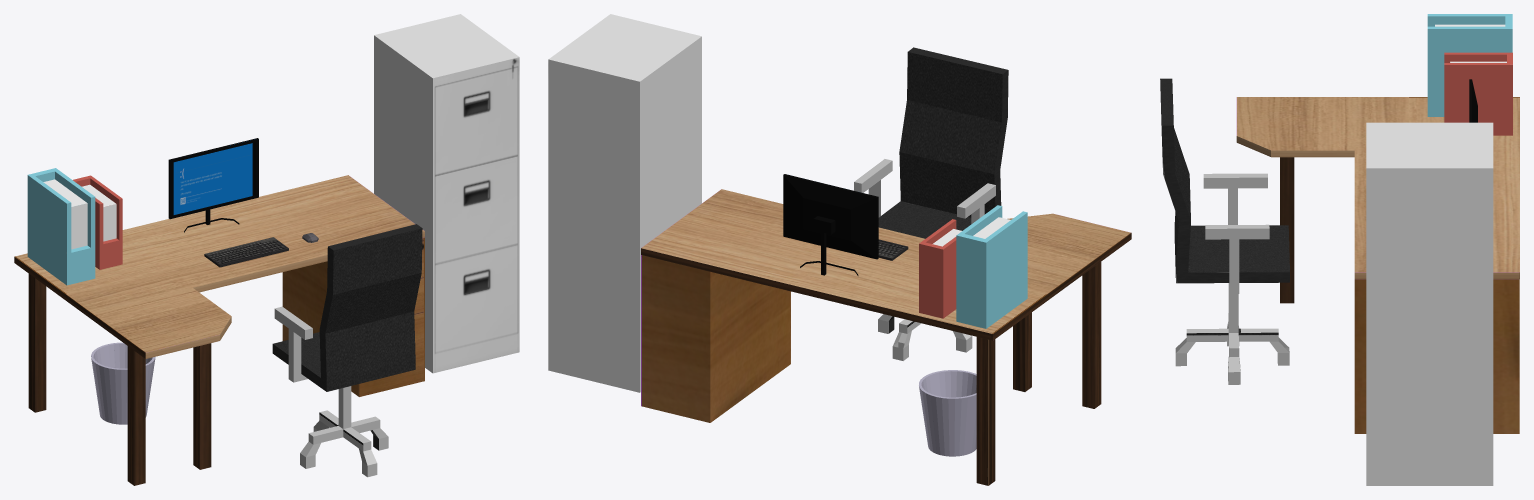
Rendered from stanowisko solo.glb.
The picture shows the model from 3 angles, left to right: view 1: azimuth 30°, elevation 25°; view 2: azimuth 150°, elevation 25°; view 3: azimuth 270°, elevation 25°; orthographic projection. The views are drawn at different scales.
Parts seen in each view (by area): view 1: biurko.019, biurko.015, biurko.023, biurko.024, biurko.022, biurko.018, biurko.021, biurko.020; view 2: biurko.015, biurko.019, biurko.023, biurko.024, biurko.022, biurko.018, biurko.021; view 3: biurko.019, biurko.015, biurko.023, biurko.021, biurko.024.
Boxes of the visible parts, x1,y1,x2,y2 form: biurko.019: (374, 14, 519, 373); biurko.015: (14, 175, 424, 485); biurko.023: (272, 224, 422, 477); biurko.024: (27, 168, 95, 285); biurko.022: (168, 138, 258, 232); biurko.018: (91, 342, 155, 424); biurko.021: (73, 175, 122, 269); biurko.020: (204, 237, 288, 267); biurko.015: (641, 189, 1131, 485); biurko.019: (548, 14, 701, 392); biurko.023: (854, 47, 1008, 360); biurko.024: (956, 205, 1027, 328); biurko.022: (783, 174, 878, 275); biurko.018: (919, 370, 976, 456); biurko.021: (919, 219, 961, 318); biurko.019: (1366, 122, 1493, 485); biurko.015: (1236, 97, 1519, 433); biurko.023: (1160, 78, 1289, 384); biurko.021: (1444, 52, 1512, 135); biurko.024: (1427, 14, 1512, 116).
Bounding box in the file's own units: 6.54 × 4.27 × 4.36.
Materials: 9 (9 with a texture image).
